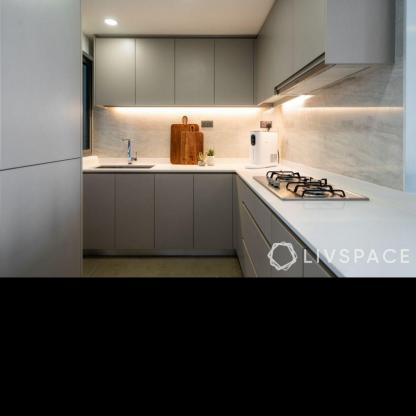Cabinet: (90, 0, 405, 107), (83, 171, 335, 276)
